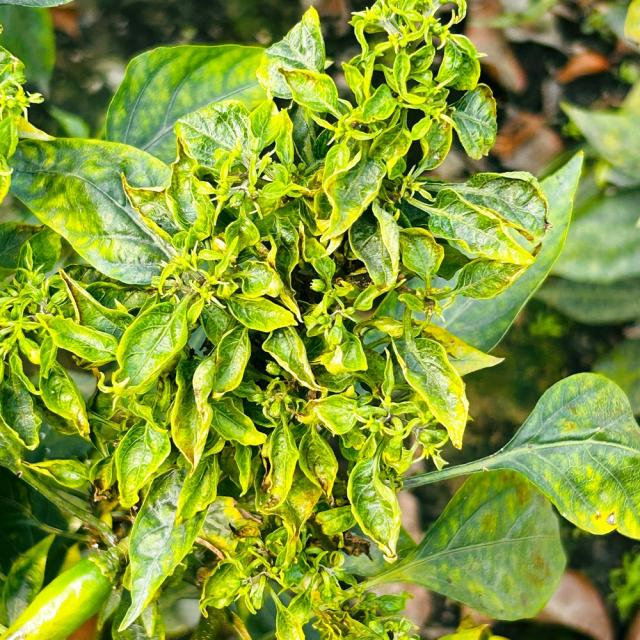Chilli_Leaf_Curl: (0, 0, 638, 638), (341, 370, 638, 622), (340, 466, 568, 622), (6, 135, 181, 287)
